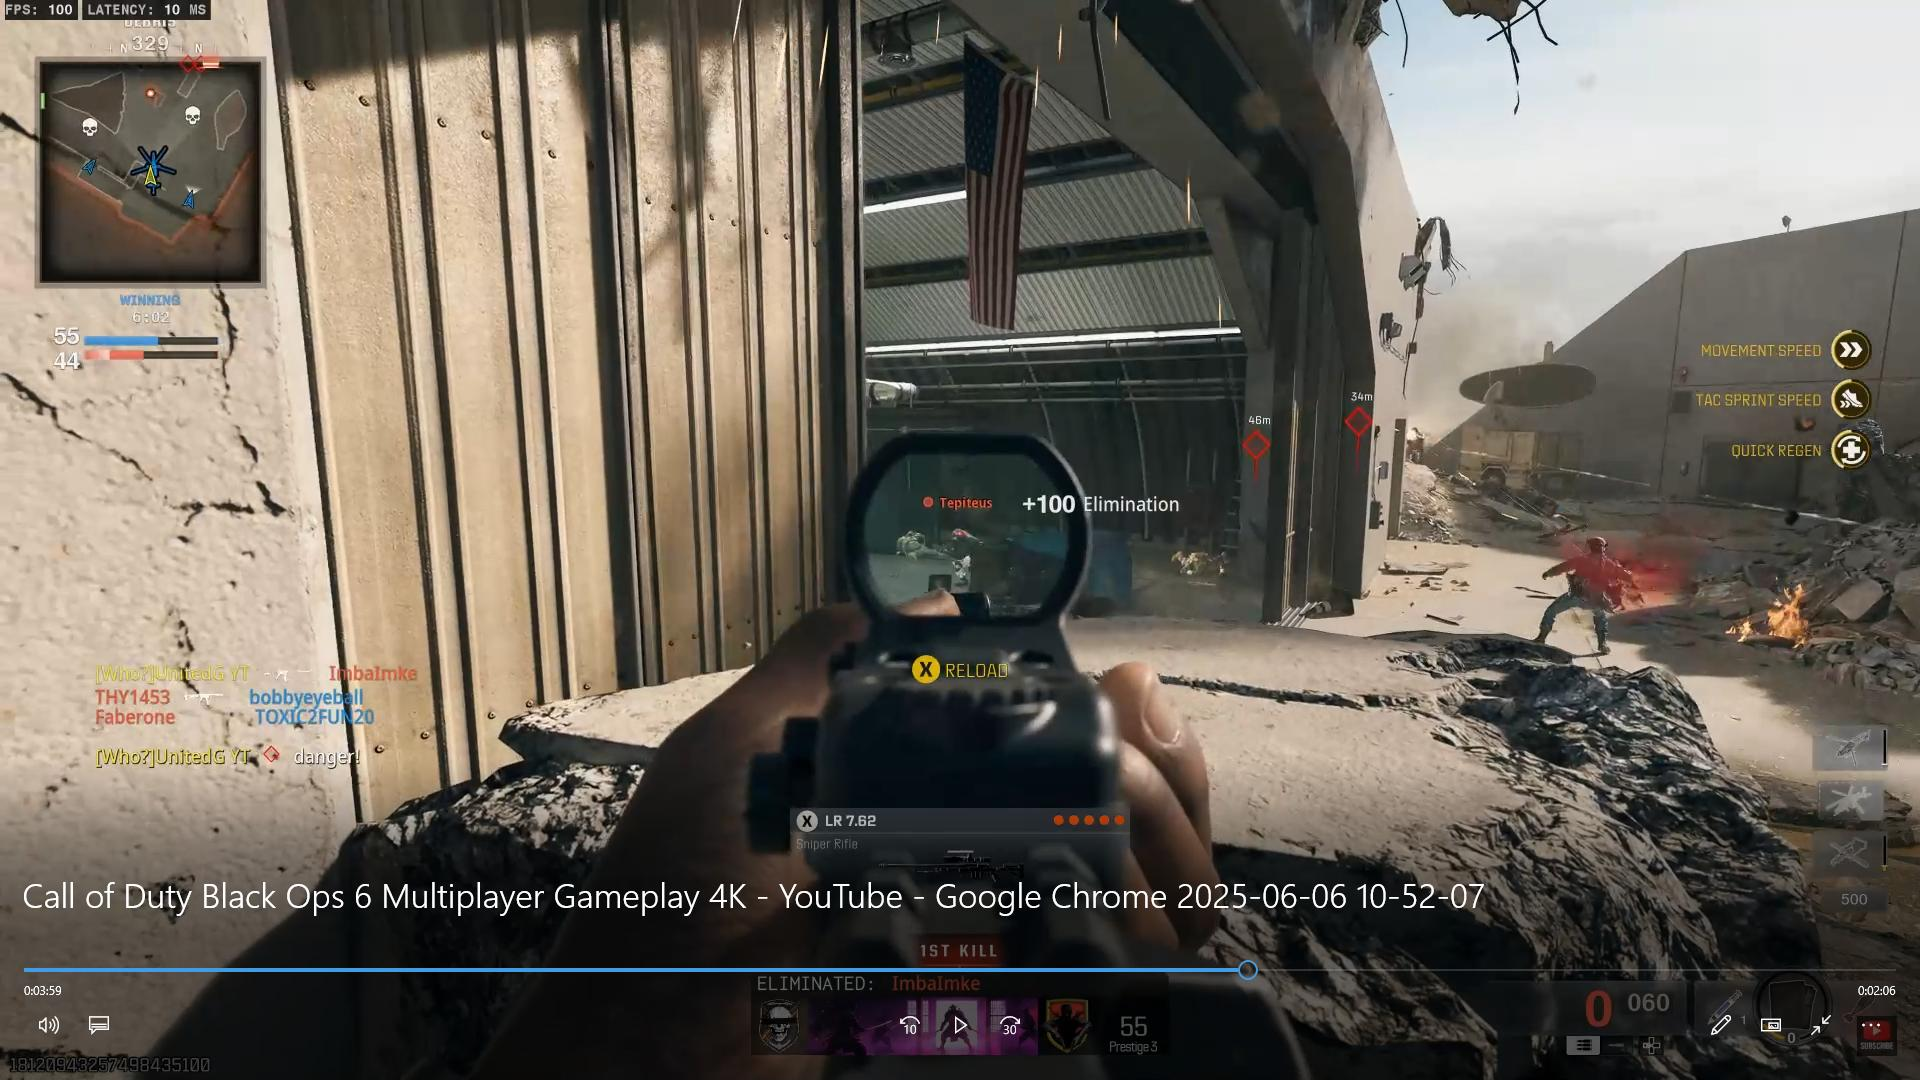Enemy: (920, 484, 1006, 585), (1407, 415, 1428, 464)
